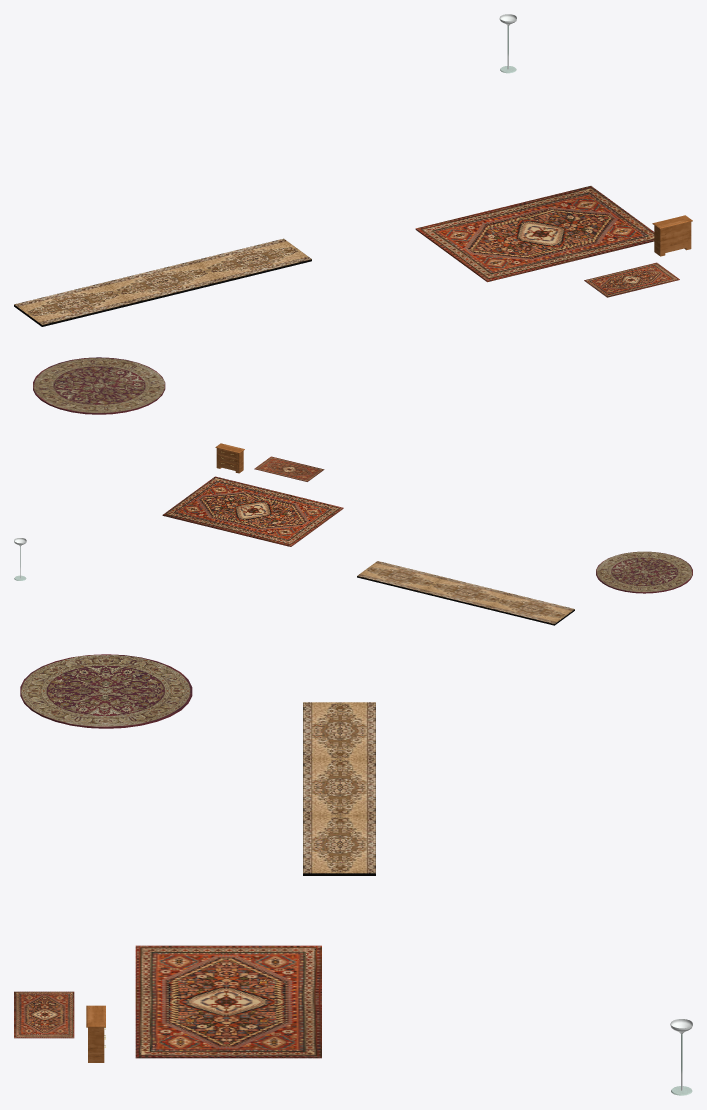
File: next objects.FBX
The picture shows the model from 3 angles, top to bottom: view 1: azimuth 30°, elevation 25°; view 2: azimuth 150°, elevation 25°; view 3: azimuth 270°, elevation 25°; orthographic projection. The views are drawn at different scales.
Visible parts, largest first — view 1: pCube006, pCylinder1, pCube1 (×2), pCube005, pCube004, polySurface1; view 2: pCube006, pCylinder1, pCube1 (×2), pCube005, pCube004, polySurface1; view 3: pCube006, pCylinder1, pCube1 (×2), pCube005, pCube004, polySurface1.
Part boxes in pixels (box(x1,y1,x2,y2)): pCube006: box(415, 186, 654, 282); pCylinder1: box(33, 357, 165, 414); pCube1 (×2): box(14, 262, 679, 326); pCube005: box(193, 238, 311, 282); pCube004: box(105, 261, 221, 304); polySurface1: box(652, 215, 692, 256); pCube006: box(162, 476, 343, 546); pCylinder1: box(596, 551, 692, 593); pCube1 (×2): box(254, 456, 574, 625); pCube005: box(357, 561, 443, 593); pCube004: box(423, 577, 508, 609); polySurface1: box(215, 443, 244, 473); pCube006: box(135, 945, 321, 1058); pCylinder1: box(20, 654, 192, 728); pCube1 (×2): box(14, 702, 375, 1038); pCube005: box(303, 816, 375, 875); pCube004: box(303, 759, 375, 815); polySurface1: box(86, 1005, 105, 1062).
Bounding box in the file's own units: 1909 × 142 × 1242.
